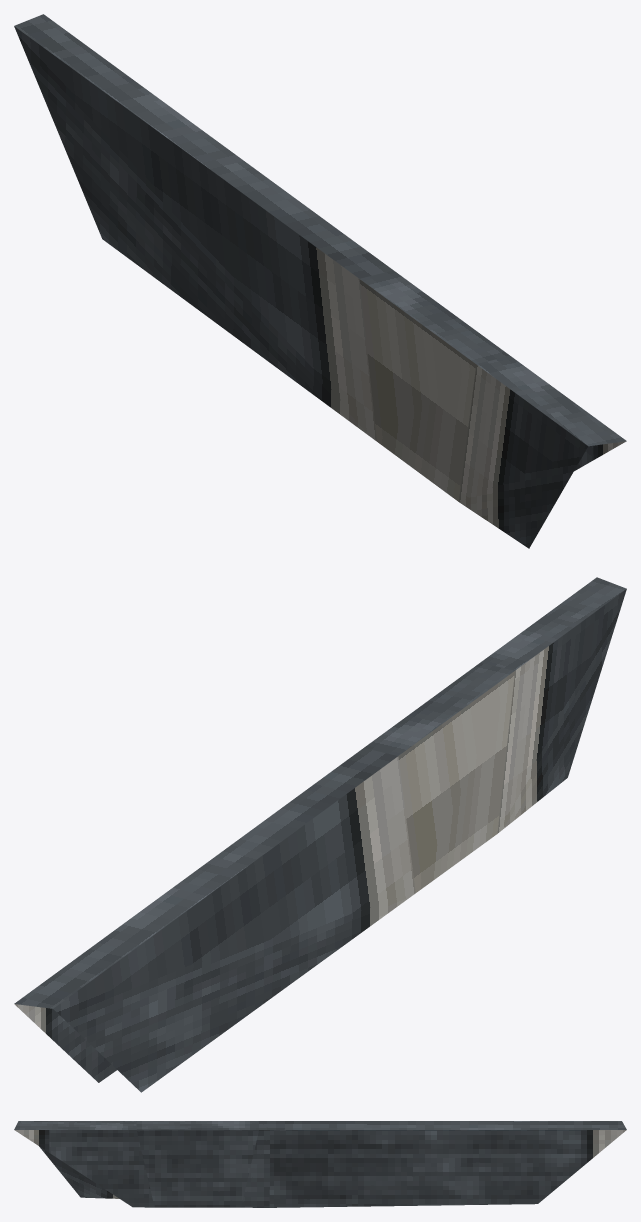
The model's file is room_1.glb.
3 views of the same model, one above another, from view 1: azimuth 30°, elevation 25°; view 2: azimuth 150°, elevation 25°; view 3: azimuth 270°, elevation 25° (orthographic). The views are drawn at different scales.
Parts seen in each view (by area): view 1: Plane.004; view 2: Plane.004; view 3: Plane.004.
Part boxes in pixels (x1=…): Plane.004: x1=14, y1=14, x2=626, y2=548; Plane.004: x1=14, y1=577, x2=626, y2=1092; Plane.004: x1=14, y1=1121, x2=626, y2=1207.
Bounding box in the file's own units: 0.0885 × 0.3705 × 2.6.
Materials: 1 (1 with a texture image).
